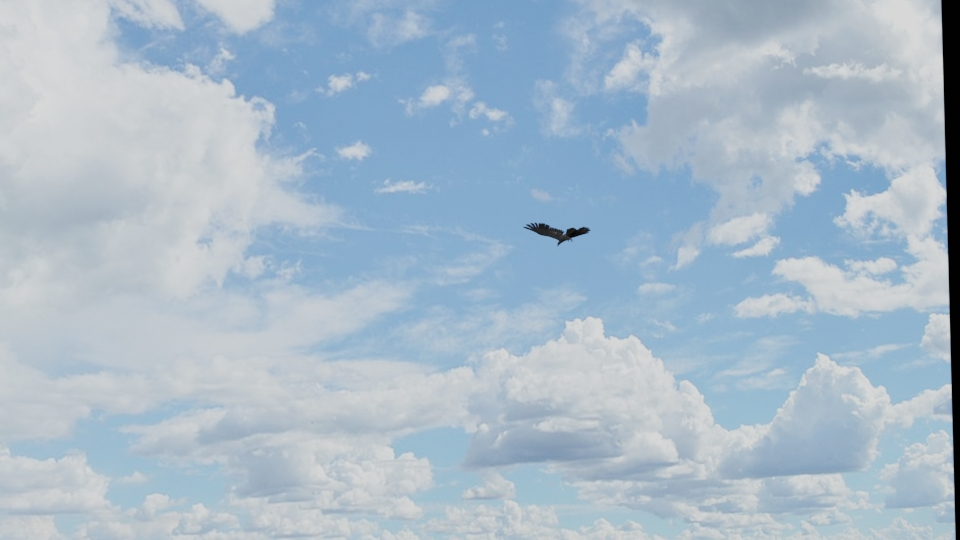bird: (525, 219, 589, 245)
